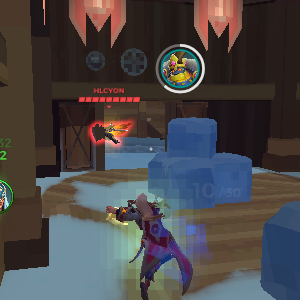model: (88, 122, 124, 146)
